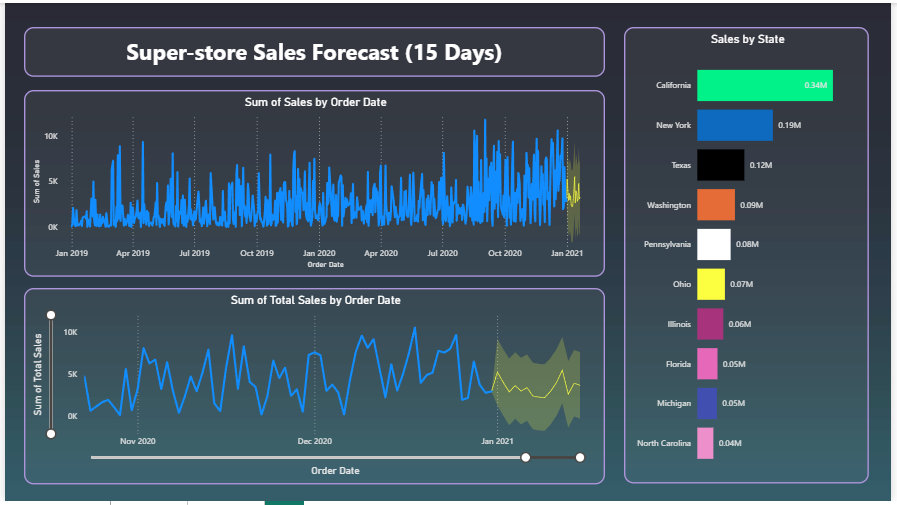

What the dashboard file says about the page in this screenshot:
{"tool":"powerbi","page":{"name":"Page 2","canvas":[1280,720],"ordinal":1},"visuals":[{"type":"textbox","box":[26.9,35.3,839.9,72.2],"z":0},{"type":"clusteredBarChart","title":"Sales by State","fields":{"Y":["Sum(SuperStore_Sales_Dataset.Sales)"],"Category":["SuperStore_Sales_Dataset.State"]},"box":[895.3,35.3,354.4,660.2],"z":1000},{"type":"lineChart","fields":{"Y":["Sum(SuperStore_Sales_Dataset.Sales)"],"Category":["SuperStore_Sales_Dataset.Order Date"]},"box":[26.9,126,839.9,270.4],"z":2000},{"type":"lineChart","fields":{"Y":["Sum(Salesforecast.Total Sales)"],"Category":["Salesforecast.Order Date"]},"box":[26.9,411.5,839.9,283.9],"z":3000}]}

Visuals, with their boxes in screenshot pixels (x1, y1, x2, y2), scaled from the page's 1280x720 canvas onto the 897x505 screenshot:
textbox: <bbox>19, 25, 607, 75</bbox>
"Sales by State" clusteredBarChart: <bbox>627, 25, 876, 488</bbox>
lineChart - Sum(SuperStore_Sales_Dataset.Sales) x SuperStore_Sales_Dataset.Order Date: <bbox>19, 88, 607, 278</bbox>
lineChart - Sum(Salesforecast.Total Sales) x Salesforecast.Order Date: <bbox>19, 289, 607, 488</bbox>
